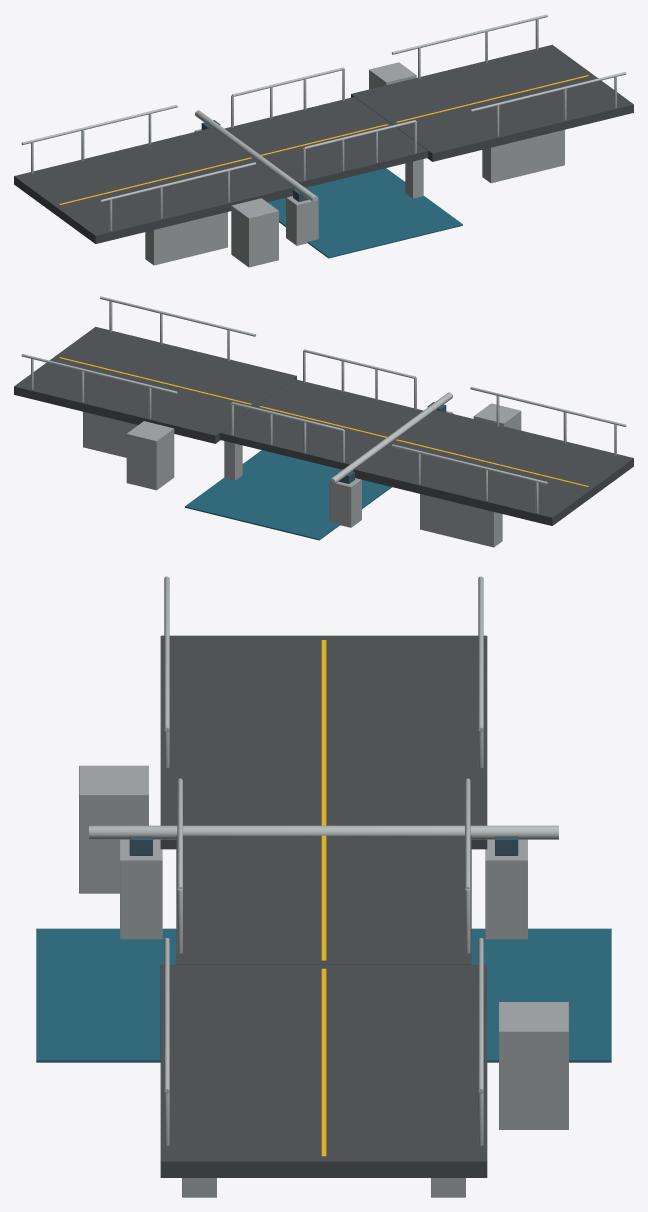
Rendered from drawbridge_deck.glb.
3 views of the same model, one above another, from view 1: azimuth 30°, elevation 25°; view 2: azimuth 150°, elevation 25°; view 3: azimuth 270°, elevation 25° (orthographic). The views are drawn at different scales.
Visible parts, largest first — view 1: APPROACH_-1, APPROACH_1, KIN_deck_surface, CHANNEL_water, APPROACH_pier_1_-1.6, APPROACH_pier_-1_-1.6, GATE_support_platform_-1, HINGE_pier_-2.35, HINGE_shaft, GATE_support_platform_1, LANDING_seat_-1.5, APPROACH_rail_-1_2.02 (+7 smaller); view 2: APPROACH_-1, APPROACH_1, KIN_deck_surface, CHANNEL_water, APPROACH_pier_-1_1.6, GATE_support_platform_1, APPROACH_pier_1_1.6, HINGE_pier_2.35, HINGE_shaft, GATE_support_platform_-1, LANDING_seat_1.5, APPROACH_rail_-1_-2.02 (+7 smaller); view 3: APPROACH_1, APPROACH_-1, KIN_deck_surface, CHANNEL_water, GATE_support_platform_1, GATE_support_platform_-1, HINGE_shaft, HINGE_pier_2.35, HINGE_pier_-2.35, APPROACH_centerline_1, APPROACH_centerline_-1, APPROACH_rail_1_2.02 (+3 smaller).
Boxes of the visible parts, <box> form: APPROACH_-1: <box>14,127,294,243</box>; APPROACH_1: <box>351,44,633,161</box>; KIN_deck_surface: <box>224,97,428,187</box>; CHANNEL_water: <box>268,168,462,258</box>; APPROACH_pier_1_-1.6: <box>482,129,564,183</box>; APPROACH_pier_-1_-1.6: <box>145,212,227,265</box>; GATE_support_platform_-1: <box>231,198,278,267</box>; HINGE_pier_-2.35: <box>286,196,318,245</box>; HINGE_shaft: <box>195,110,318,202</box>; GATE_support_platform_1: <box>369,62,416,89</box>; LANDING_seat_-1.5: <box>405,159,423,198</box>; APPROACH_rail_-1_2.02: <box>21,105,177,144</box>; APPROACH_-1: <box>353,409,633,525</box>; APPROACH_1: <box>14,326,296,443</box>; KIN_deck_surface: <box>219,379,423,469</box>; CHANNEL_water: <box>185,450,391,540</box>; APPROACH_pier_-1_1.6: <box>420,494,502,547</box>; GATE_support_platform_1: <box>126,421,174,490</box>; APPROACH_pier_1_1.6: <box>83,411,137,457</box>; HINGE_pier_2.35: <box>329,478,361,527</box>; HINGE_shaft: <box>329,392,452,484</box>; GATE_support_platform_-1: <box>473,403,521,430</box>; LANDING_seat_1.5: <box>224,441,242,480</box>; APPROACH_rail_-1_-2.02: <box>470,386,626,426</box>; APPROACH_1: <box>160,964,487,1177</box>; APPROACH_-1: <box>160,635,487,849</box>; KIN_deck_surface: <box>176,835,471,964</box>; CHANNEL_water: <box>36,928,611,1062</box>; GATE_support_platform_1: <box>499,1002,568,1129</box>; GATE_support_platform_-1: <box>79,765,148,893</box>; HINGE_shaft: <box>89,825,558,839</box>; HINGE_pier_2.35: <box>485,839,527,939</box>; HINGE_pier_-2.35: <box>120,839,162,939</box>; APPROACH_centerline_1: <box>321,968,326,1156</box>; APPROACH_centerline_-1: <box>321,640,326,825</box>; APPROACH_rail_1_2.02: <box>478,938,483,1093</box>.
Size of the model in its own units: 16 by 2.33 by 7.4.
